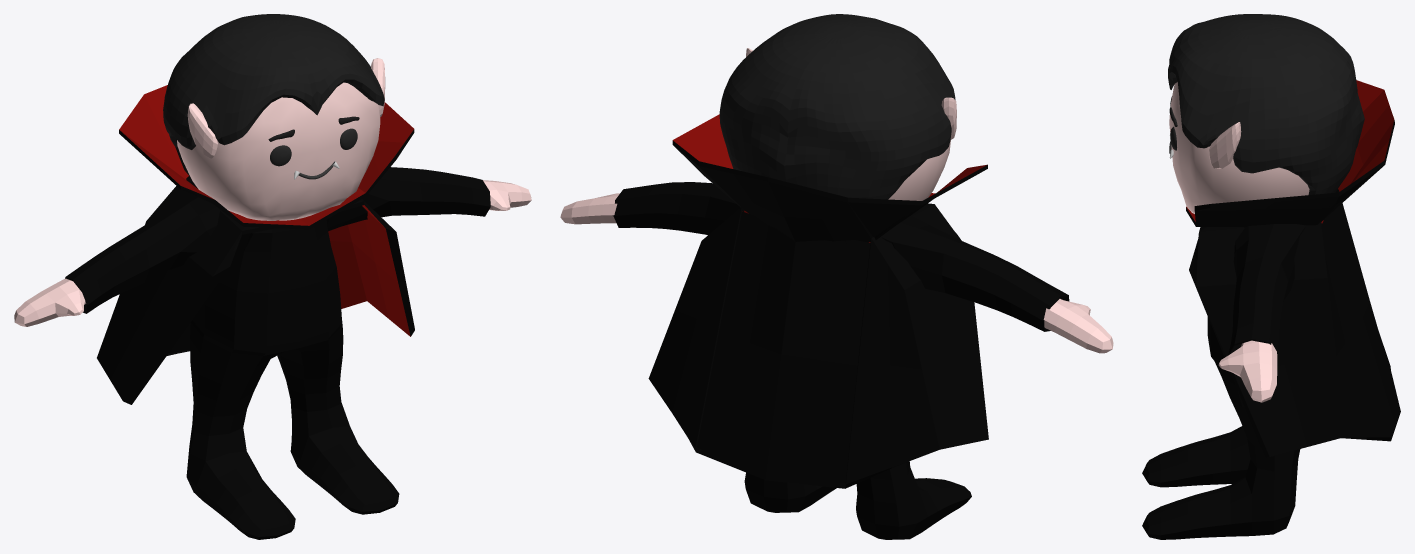
File: vampire.glb
3 views of the same model, side by side, from view 1: azimuth 30°, elevation 25°; view 2: azimuth 150°, elevation 25°; view 3: azimuth 270°, elevation 25° (orthographic). The views are drawn at different scales.
Parts seen in each view (by area): view 1: body clothes.001, cloak.001, hair.001, head.001, sleeves.001, collar.001, hands.001, ears.002, eyes.001; view 2: cloak.001, hair.001, sleeves.001, collar.001, body clothes.001, hands.001, head.001; view 3: cloak.001, hair.001, body clothes.001, collar.001, sleeves.001, head.001, hands.001, ears.002.
Boxes of the visible parts, left/top/right/bottom form: body clothes.001: left=186, top=219, right=399, bottom=539; cloak.001: left=97, top=176, right=414, bottom=404; hair.001: left=163, top=14, right=384, bottom=176; head.001: left=177, top=82, right=380, bottom=220; sleeves.001: left=65, top=167, right=490, bottom=313; collar.001: left=119, top=85, right=414, bottom=229; hands.001: left=14, top=180, right=531, bottom=326; ears.002: left=187, top=58, right=385, bottom=158; eyes.001: left=270, top=128, right=357, bottom=166; cloak.001: left=648, top=203, right=988, bottom=488; hair.001: left=719, top=14, right=955, bottom=199; sleeves.001: left=613, top=182, right=1069, bottom=331; collar.001: left=672, top=114, right=987, bottom=242; body clothes.001: left=744, top=461, right=971, bottom=539; hands.001: left=560, top=193, right=1113, bottom=353; head.001: left=888, top=140, right=950, bottom=200; cloak.001: left=1189, top=189, right=1400, bottom=457; hair.001: left=1168, top=14, right=1364, bottom=194; body clothes.001: left=1142, top=317, right=1300, bottom=539; collar.001: left=1186, top=80, right=1394, bottom=226; sleeves.001: left=1228, top=215, right=1328, bottom=355; head.001: left=1169, top=82, right=1309, bottom=213; hands.001: left=1218, top=340, right=1277, bottom=402; ears.002: left=1208, top=122, right=1241, bottom=168.
Bounding box in the file's own units: 0.9742 × 0.828 × 0.407.
